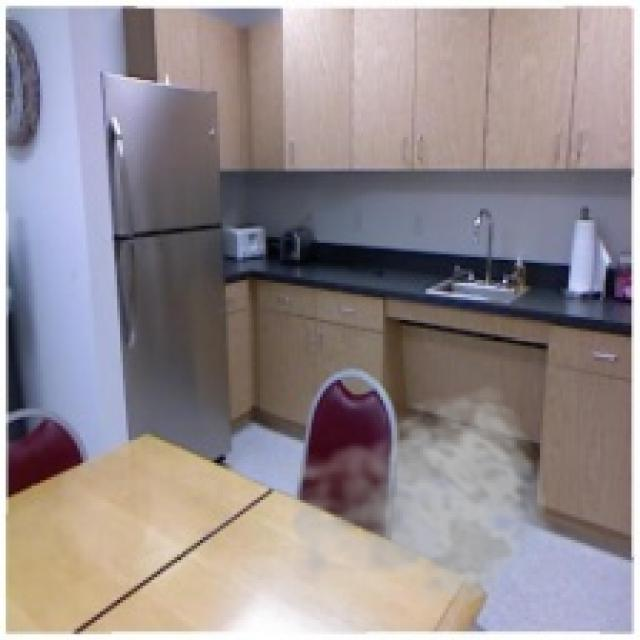smoke: (272, 383, 548, 626)
